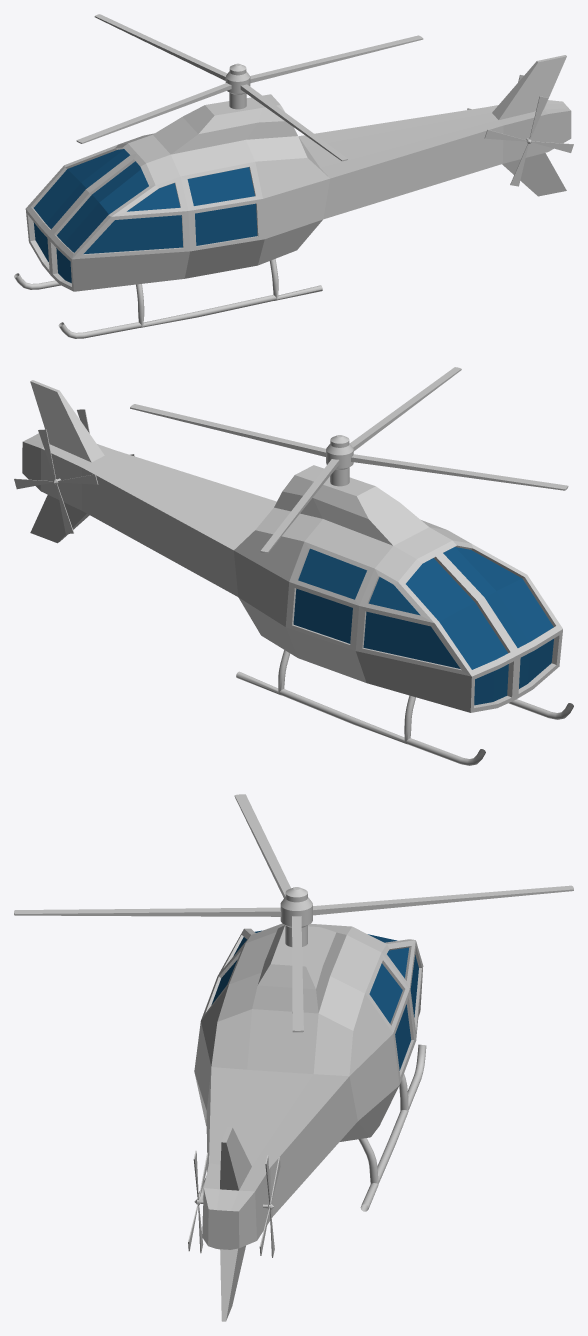
Rendered from helicopter_animation_000226.obj.
3 views of the same model, one above another, from view 1: azimuth 30°, elevation 25°; view 2: azimuth 150°, elevation 25°; view 3: azimuth 270°, elevation 25° (orthographic). The views are drawn at different scales.
Parts seen in each view (by area): view 1: Helicopter.007_Cylinder.008, Helicopter.001_Cylinder.001, Helicopter.003_Cylinder.004; view 2: Helicopter.007_Cylinder.008, Helicopter.001_Cylinder.001, Helicopter.004_Cylinder.005; view 3: Helicopter.007_Cylinder.008, Helicopter.001_Cylinder.001.
Part boxes in pixels (left/top/right/bottom): Helicopter.007_Cylinder.008: left=14, top=55, right=571, bottom=338; Helicopter.001_Cylinder.001: left=76, top=14, right=423, bottom=161; Helicopter.003_Cylinder.004: left=484, top=96, right=573, bottom=186; Helicopter.007_Cylinder.008: left=22, top=380, right=573, bottom=765; Helicopter.001_Cylinder.001: left=130, top=367, right=568, bottom=553; Helicopter.004_Cylinder.005: left=14, top=429, right=98, bottom=533; Helicopter.007_Cylinder.008: left=194, top=923, right=426, bottom=1321; Helicopter.001_Cylinder.001: left=14, top=794, right=573, bottom=1032.
Size of the model in its own units: 7.55 by 3.2 by 5.55.
